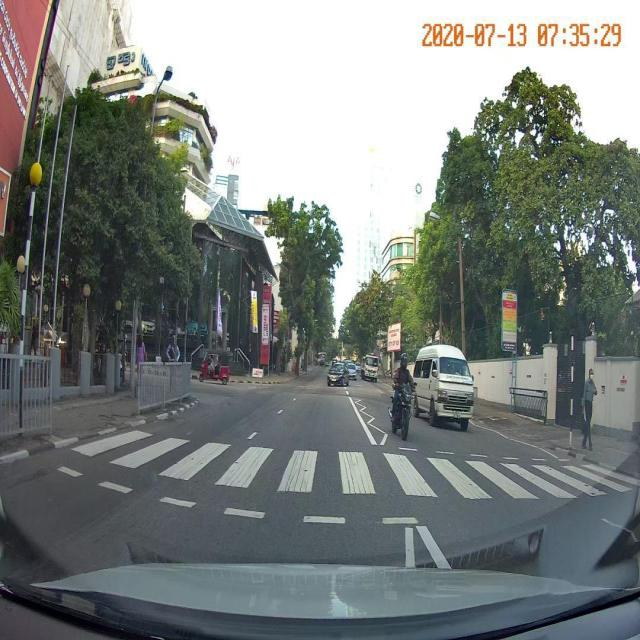Liniya 1: (415, 523, 458, 568), (346, 396, 379, 448), (399, 524, 418, 565), (246, 432, 259, 440)
Perehod: (64, 425, 640, 506)
